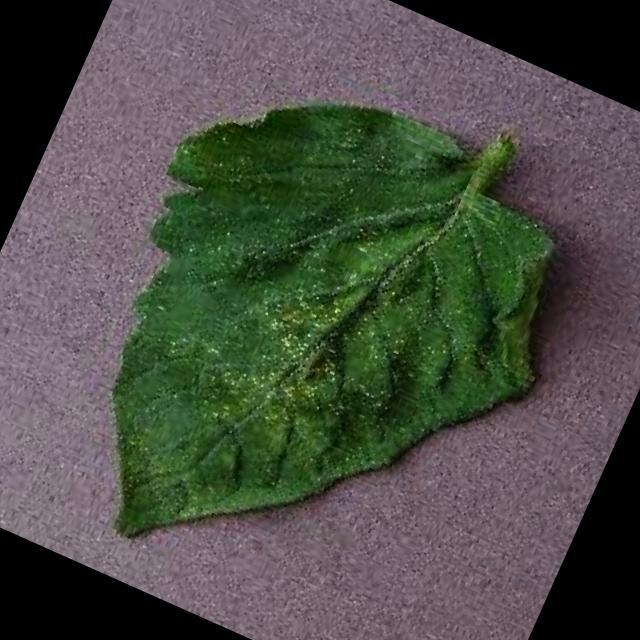Tomato spider mites leaf: (21, 33, 612, 640)
